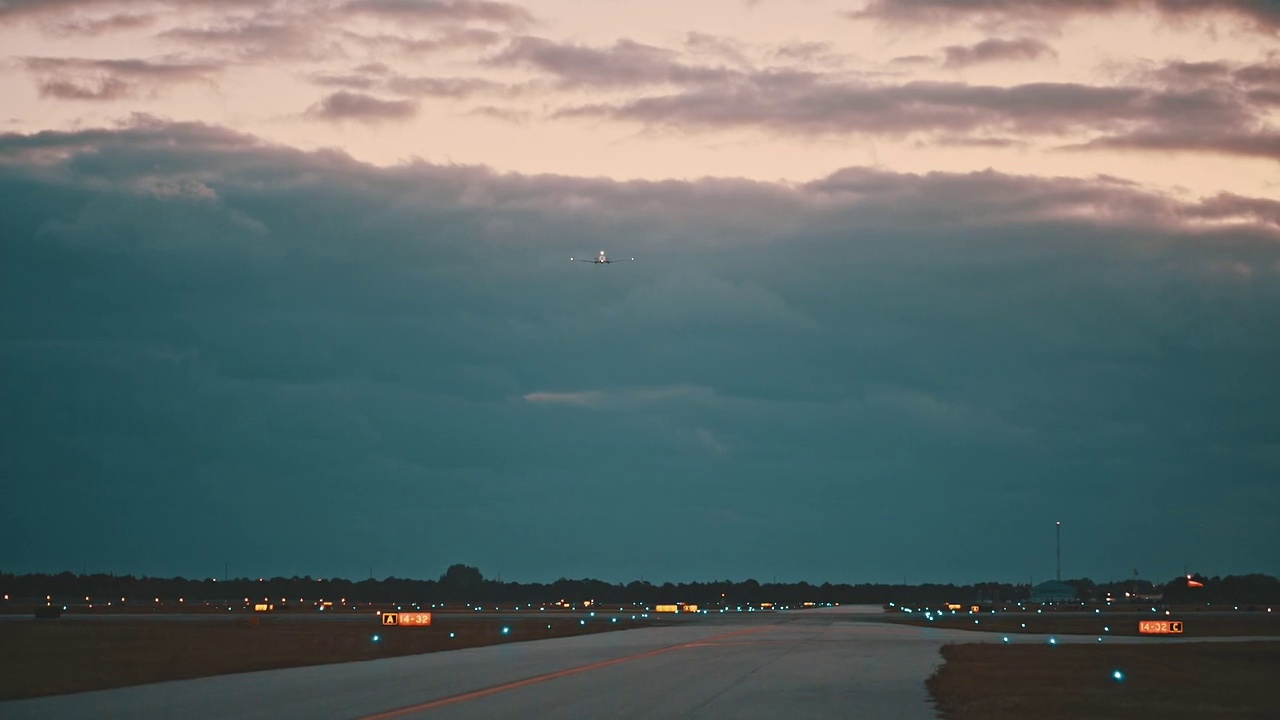plane: (569, 246, 634, 266)
